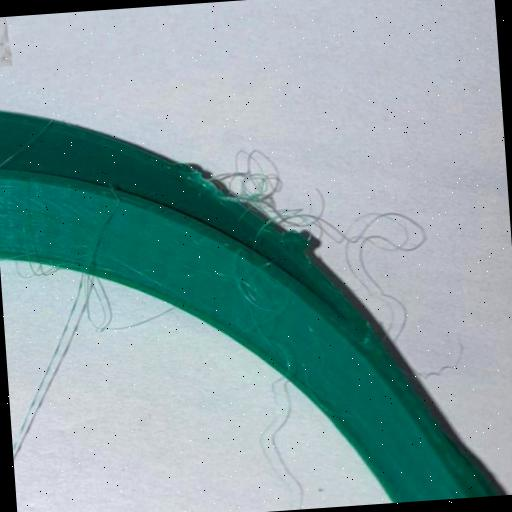stringing: (14, 244, 110, 442), (220, 163, 288, 206), (268, 204, 328, 235)
